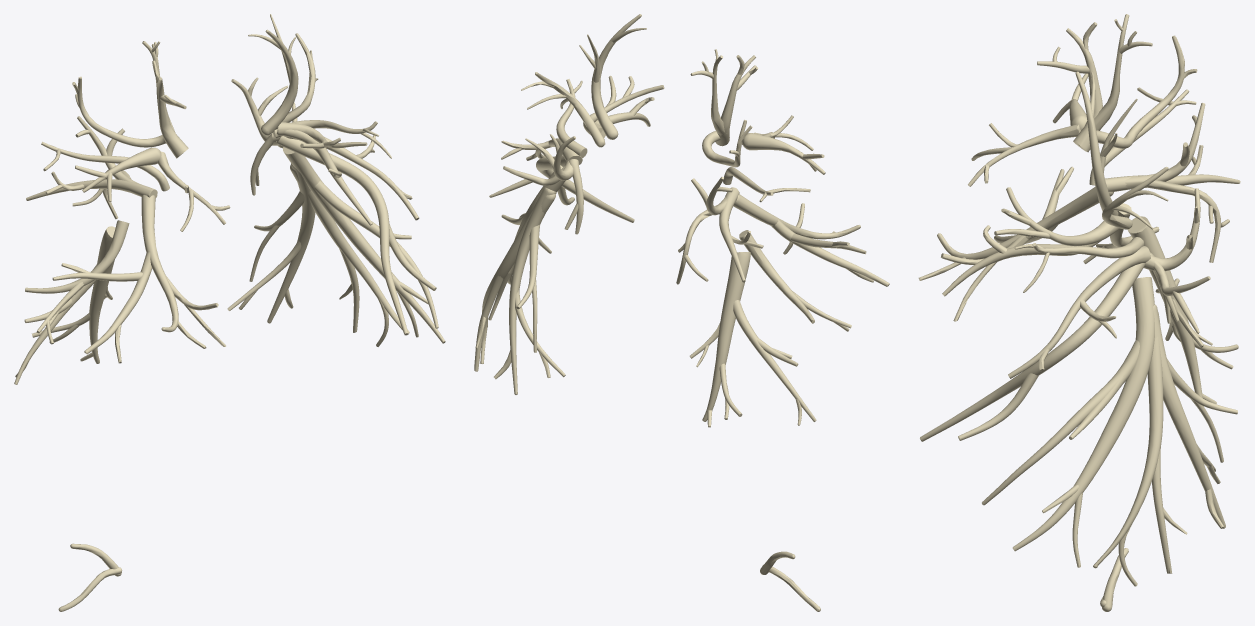
File: bodyparts3d-arterial-pulmonary.glb
The picture shows the model from 3 angles, left to right: view 1: azimuth 30°, elevation 25°; view 2: azimuth 150°, elevation 25°; view 3: azimuth 270°, elevation 25°; orthographic projection. The views are drawn at different scales.
Parts seen in each view (by area): view 1: arterial-fma8755, arterial-fma9311; view 2: arterial-fma9311, arterial-fma8755; view 3: arterial-fma8755, arterial-fma9311.
Part boxes in pixels (x1=…): arterial-fma8755: x1=58, y1=14, x2=445, y2=611; arterial-fma9311: x1=14, y1=41, x2=230, y2=384; arterial-fma9311: x1=676, y1=49, x2=889, y2=427; arterial-fma8755: x1=474, y1=14, x2=820, y2=611; arterial-fma8755: x1=920, y1=71, x2=1237, y2=611; arterial-fma9311: x1=918, y1=14, x2=1240, y2=406.
Bounding box in the file's own units: 0.2397 × 0.334 × 0.1508.
